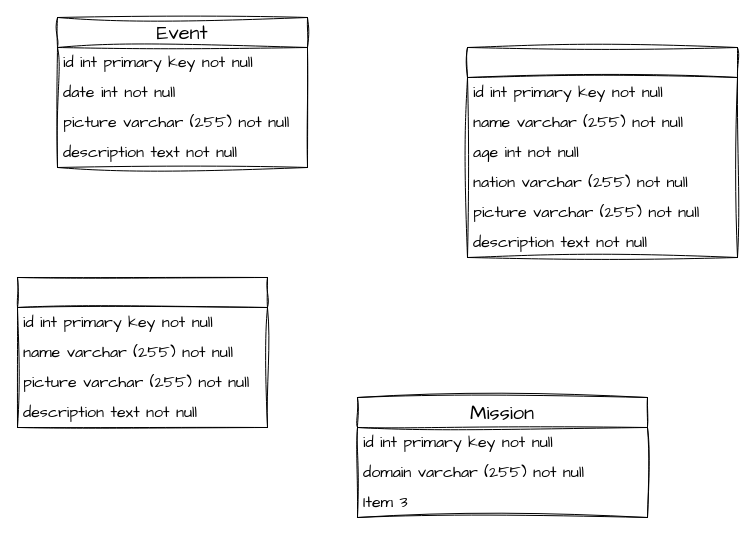
The diagram is 755 pixels wide and 535 high, and some of its shapes have lost their labels. Here are the shapes that lost their labels. From the top down, the box of each, then its label:
(466, 46, 738, 258): Crew
(16, 276, 268, 428): Module
